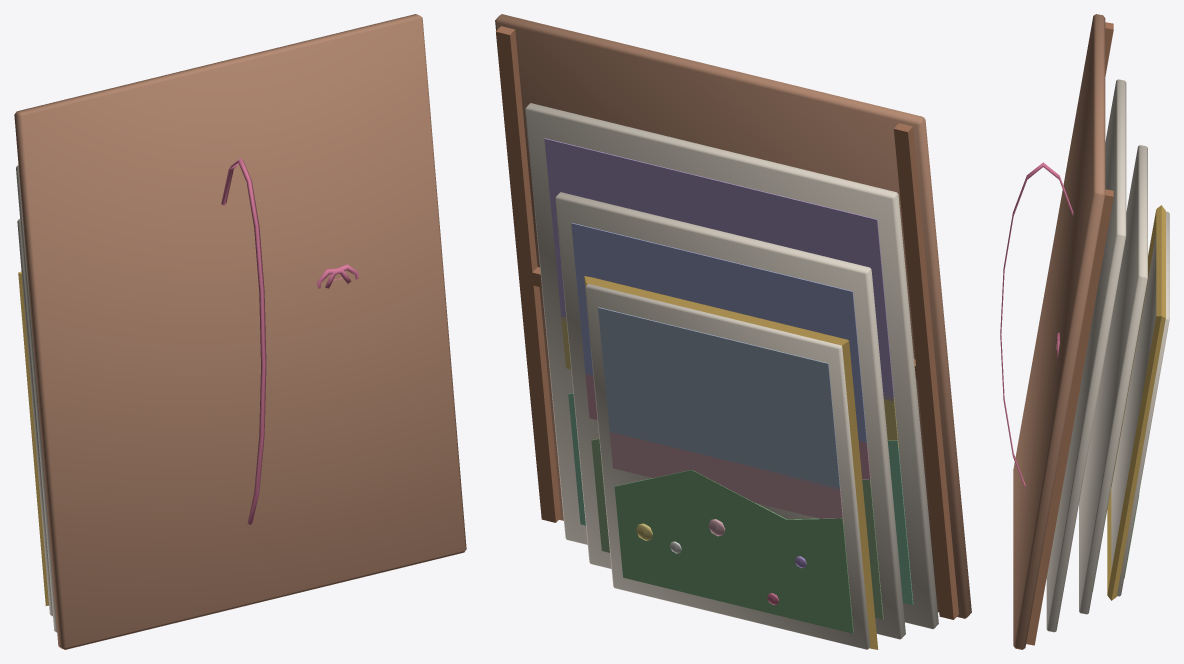
File: canvas_stack.glb
The picture shows the model from 3 angles, left to right: view 1: azimuth 30°, elevation 25°; view 2: azimuth 150°, elevation 25°; view 3: azimuth 270°, elevation 25°; orthographic projection. The views are drawn at different scales.
Visible parts, largest first — view 1: canvas_stack; view 2: canvas_stack; view 3: canvas_stack.
Boxes of the visible parts, x1,y1,x2,y2 form: canvas_stack: [14, 14, 466, 649]; canvas_stack: [495, 14, 971, 649]; canvas_stack: [1000, 14, 1169, 649].
Size of what is drawn, in the model's own units: 1 by 1.2 by 0.4.
